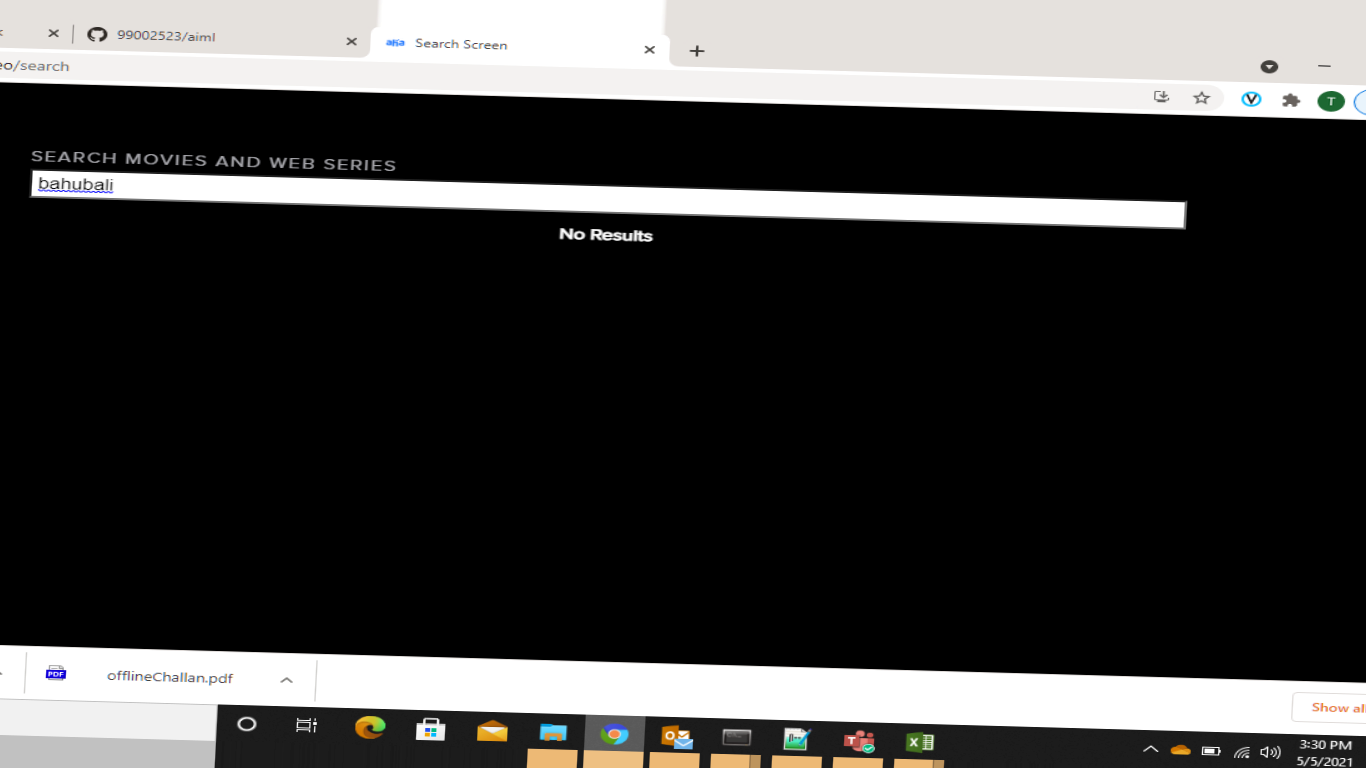noresultsfound: (241, 198, 916, 285)
searchtextbox: (26, 138, 1201, 242)
